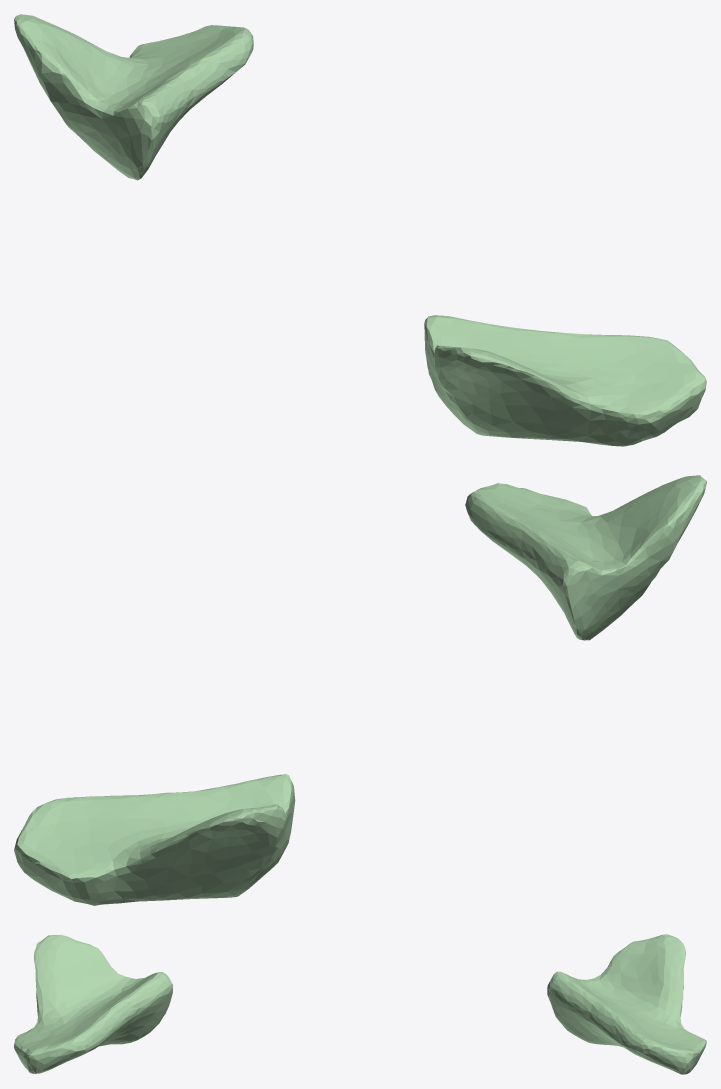
3 views of the same model, one above another, from view 1: azimuth 30°, elevation 25°; view 2: azimuth 150°, elevation 25°; view 3: azimuth 270°, elevation 25° (orthographic). The views are drawn at different scales.
Visible parts, largest first — view 1: 780.obj; view 2: 780.obj; view 3: 780.obj.
Boxes of the visible parts, x1=… form: 780.obj: x1=14, y1=14, x2=706, y2=446; 780.obj: x1=14, y1=475, x2=706, y2=905; 780.obj: x1=14, y1=934, x2=706, y2=1074.
Bounding box in the file's own units: 1714 × 939 × 6550.
